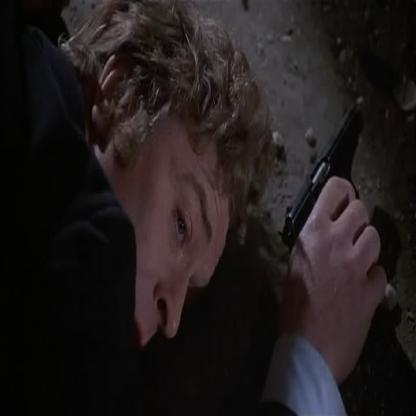gun: (284, 74, 380, 275)
